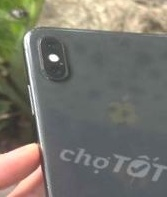scratch: (119, 158, 165, 197), (107, 26, 139, 51)
